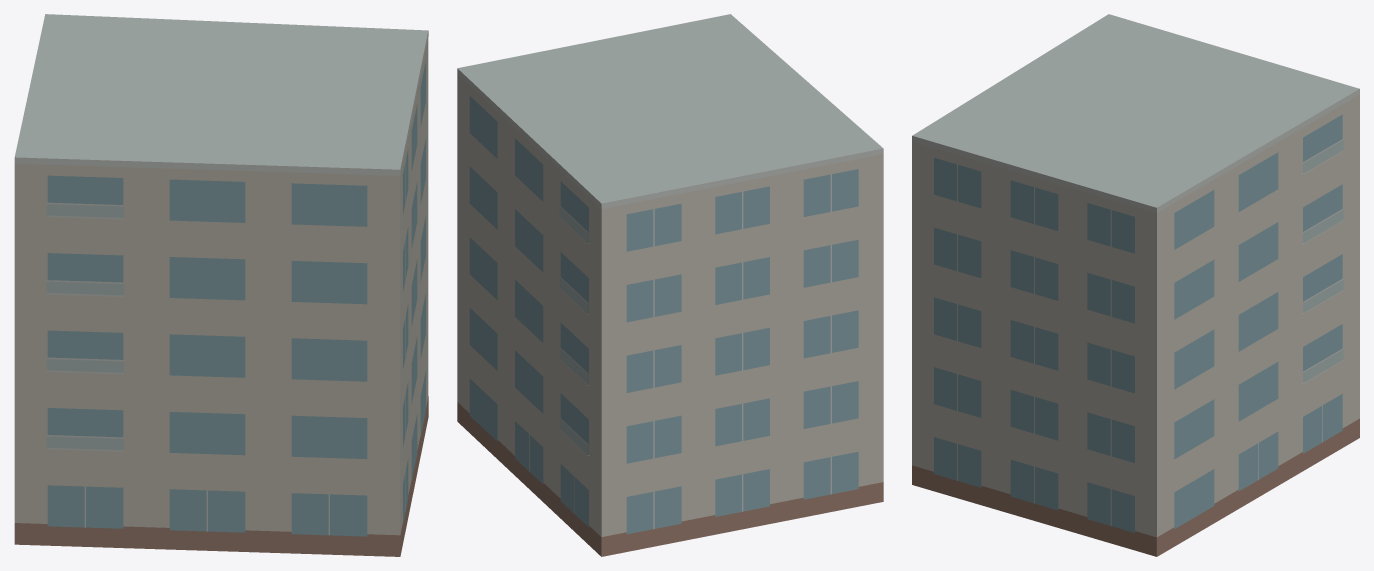
The model's file is survey-upis-32980419.glb.
3 renders of one model, left to right at view 1: azimuth 30°, elevation 25°; view 2: azimuth 150°, elevation 25°; view 3: azimuth 270°, elevation 25°, orthographic. The views are drawn at different scales.
Parts seen in each view (by area): view 1: survey-upis-32980419.tmp; view 2: survey-upis-32980419.tmp; view 3: survey-upis-32980419.tmp.
Part boxes in pixels (left/top/right/bottom): survey-upis-32980419.tmp: left=14, top=14, right=428, bottom=556; survey-upis-32980419.tmp: left=457, top=14, right=883, bottom=556; survey-upis-32980419.tmp: left=912, top=14, right=1359, bottom=556.
Bounding box in the file's own units: 18.16 × 15.25 × 17.74.
